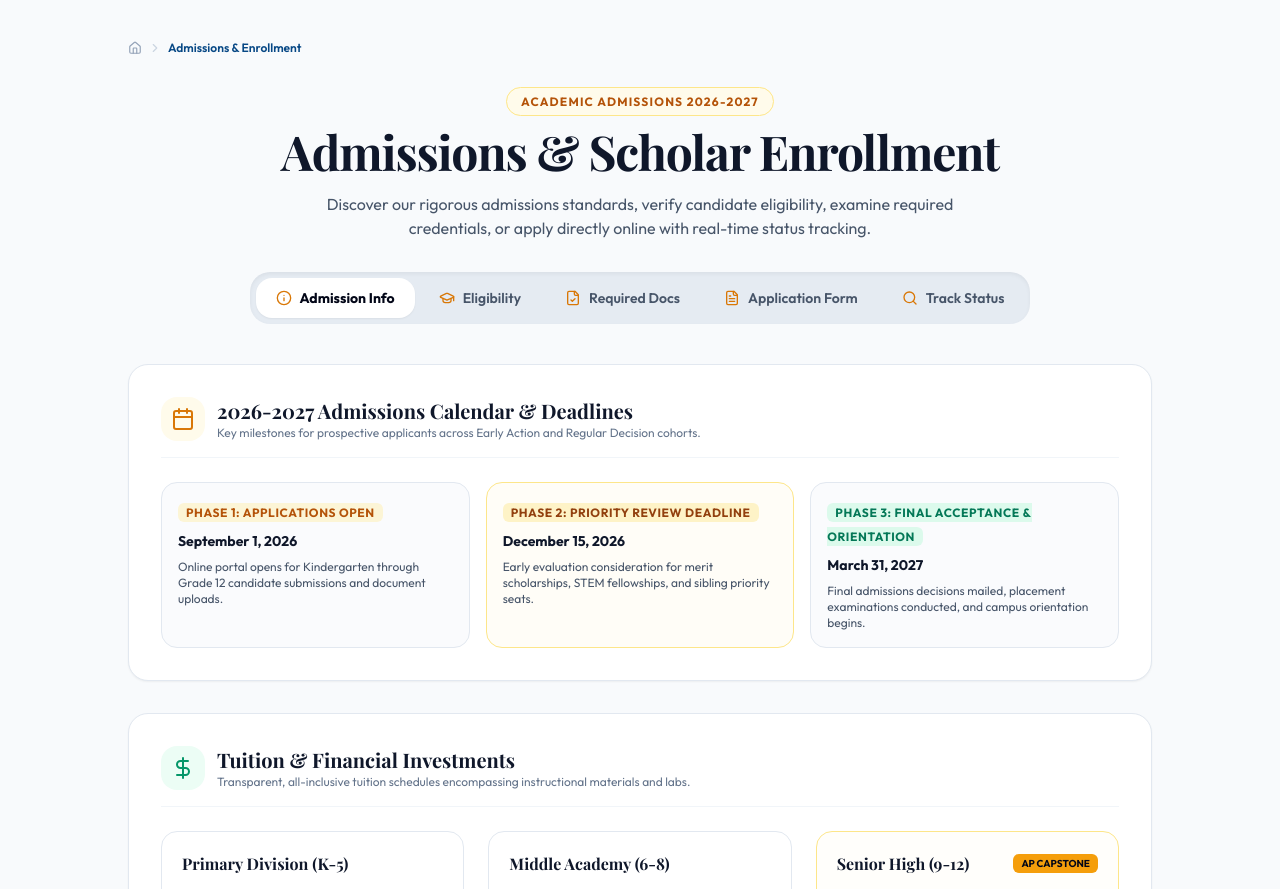
Phase 14 — Complete Admissions Workflow Test Suite › 3. Public Admissions Portal — Workflow Tracking & Correction Handling › tracks application under review and displays visual workflow progress
The image size is (1280, 889).
Click the button "Track Status" at (953, 298), box [882,278,1024,318]
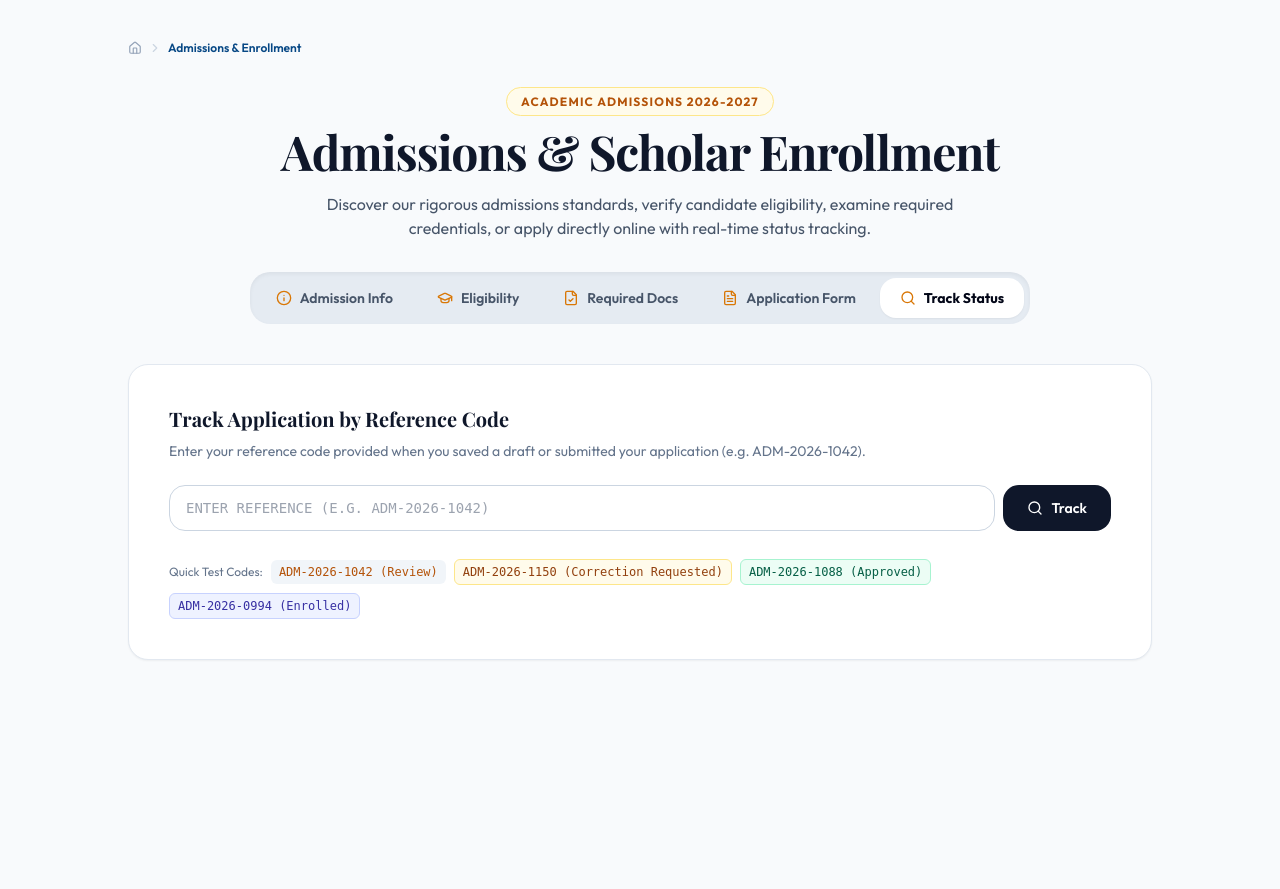
Type "ADM-2026-1042" into the field with placeholder "Enter Reference (e.g. ADM-2026-1042)" at (582, 508), box [169,485,995,531]
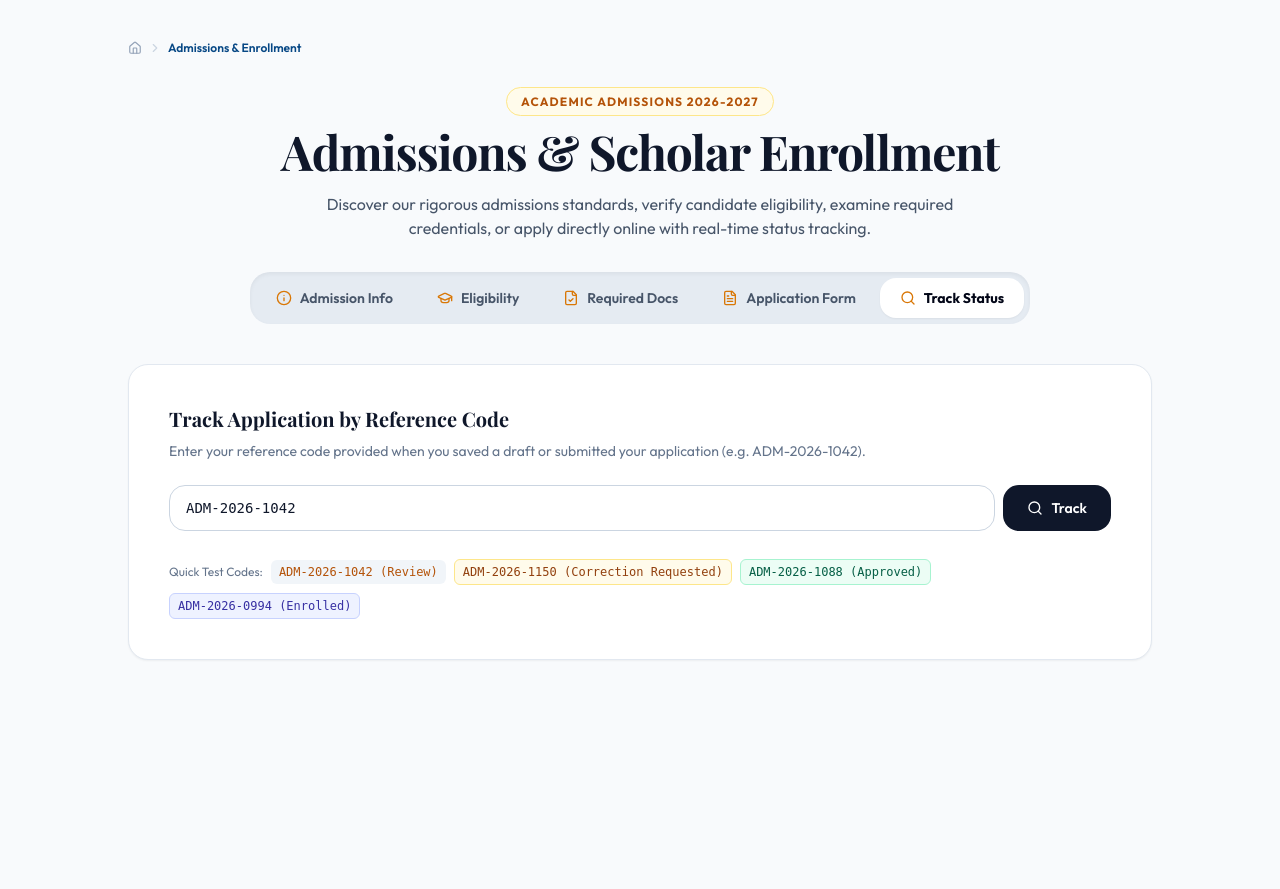
Click the button "Track" at (1057, 508), box [1003,485,1111,531]
(page scrolled)
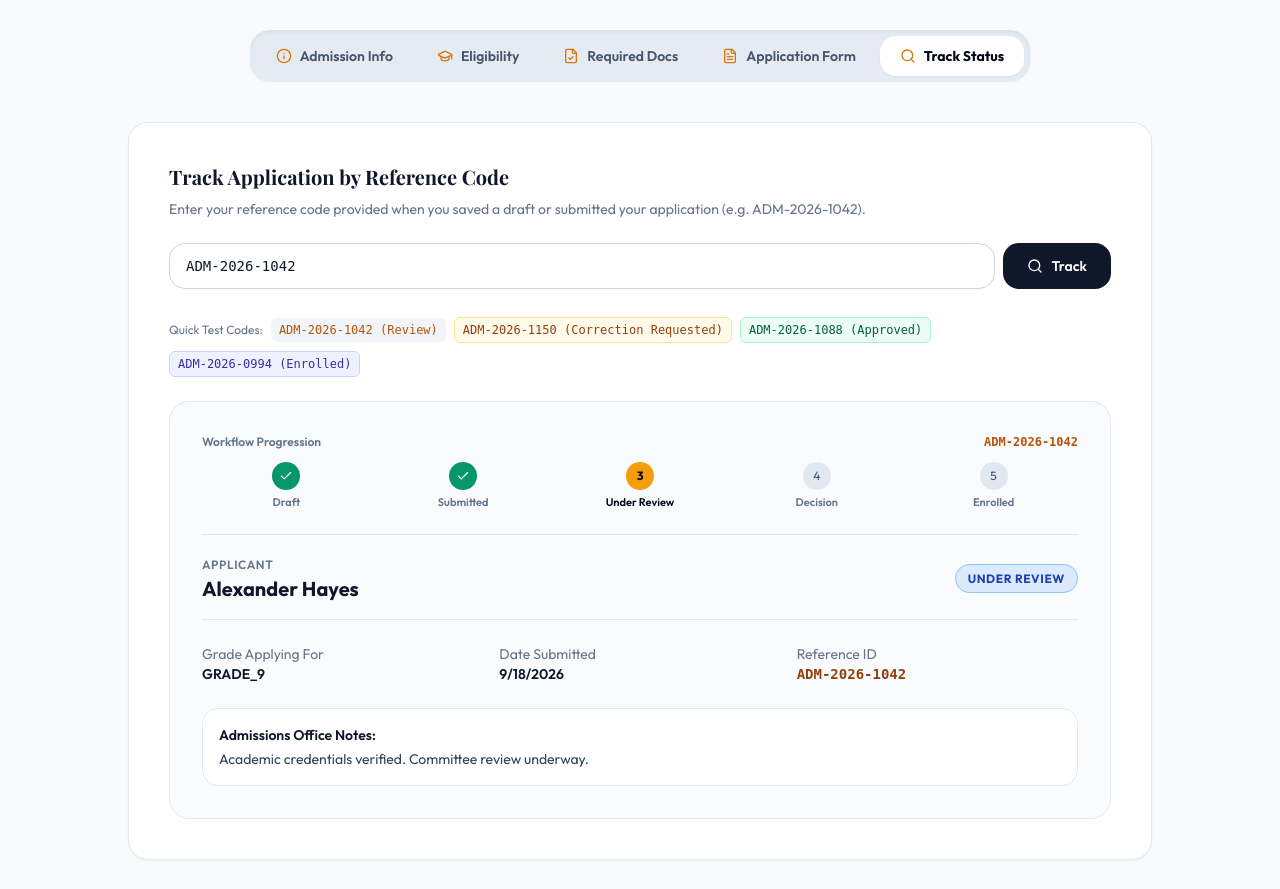
Expected: the heading "Alexander Hayes" is shown, [202,575,359,603]
Expected: the text "Under Review" is shown, [606,495,674,509]
Expected: the text "Workflow Progression" is shown, [202,434,321,450]
